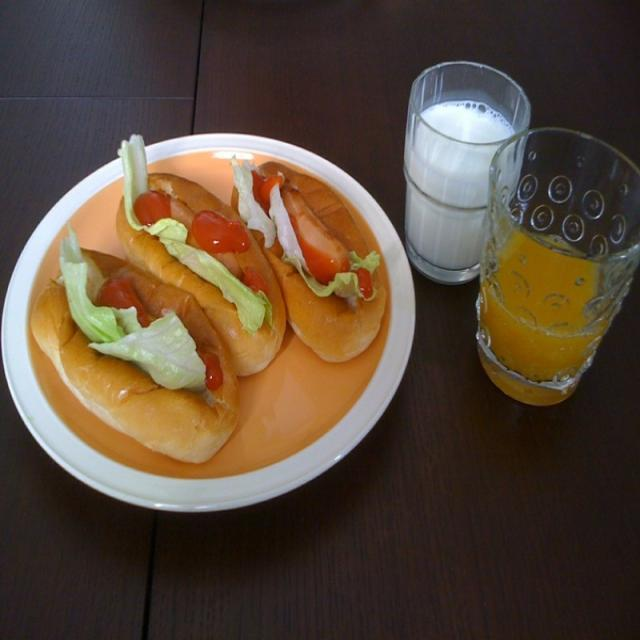Hot Dog: (12, 138, 390, 518)
